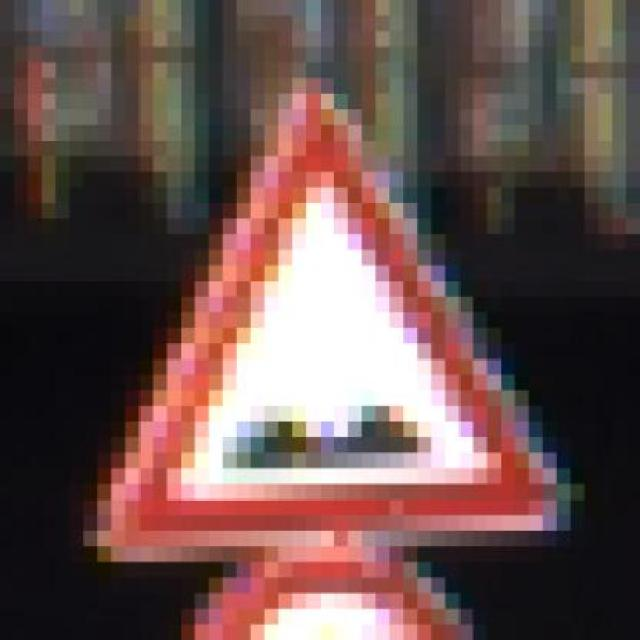Uneven Road: (83, 62, 585, 562)
